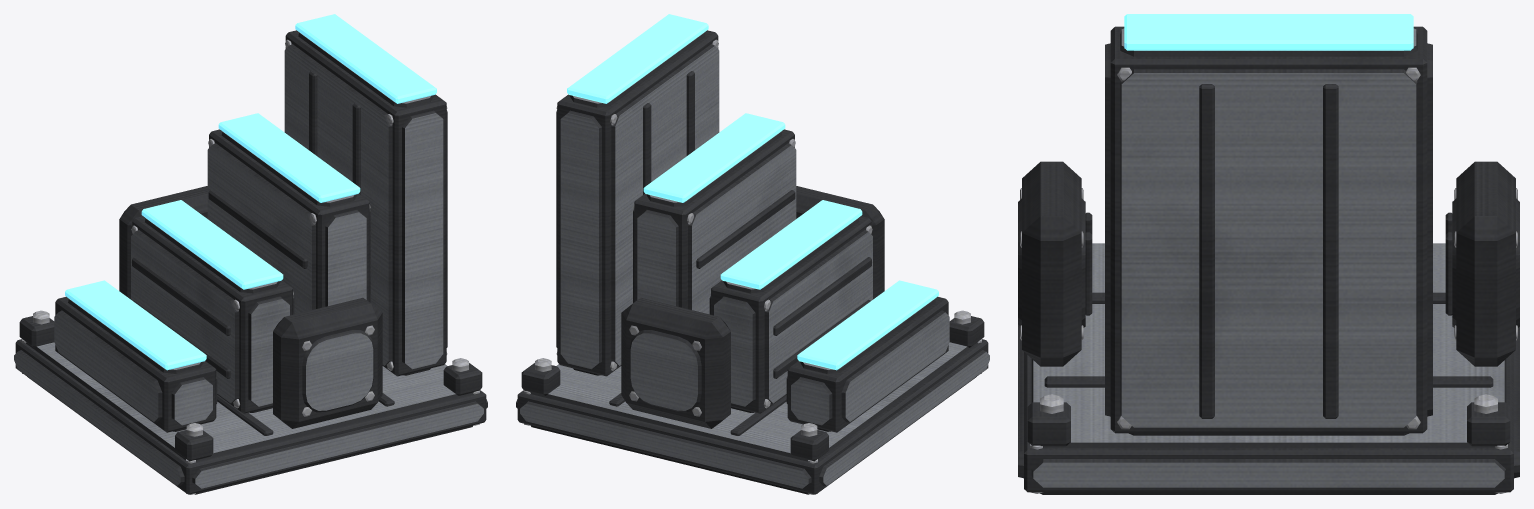
The model's file is R4X_ModuleAmplifier.glb.
3 views of the same model, side by side, from view 1: azimuth 30°, elevation 25°; view 2: azimuth 150°, elevation 25°; view 3: azimuth 270°, elevation 25° (orthographic). The views are drawn at different scales.
Visible parts, largest first — view 1: R4X_ModuleAmplifier_Body; view 2: R4X_ModuleAmplifier_Body; view 3: R4X_ModuleAmplifier_Body.
Boxes of the visible parts, bbox=[...] form: R4X_ModuleAmplifier_Body: bbox=[14, 14, 487, 494]; R4X_ModuleAmplifier_Body: bbox=[516, 14, 989, 494]; R4X_ModuleAmplifier_Body: bbox=[1018, 14, 1519, 494].
Size of the model in its own units: 0.52 by 0.512 by 0.52.
4 materials, 3 textured.
